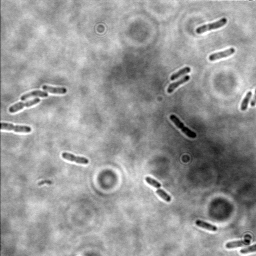Dividing: (168, 113, 197, 139), (7, 96, 41, 115), (194, 17, 228, 35), (60, 151, 90, 166), (1, 121, 33, 135)
Rod: (166, 73, 191, 95), (207, 46, 236, 64), (19, 88, 49, 101), (169, 65, 191, 82), (224, 238, 251, 251), (193, 219, 218, 233), (41, 84, 68, 96), (154, 187, 172, 203), (239, 90, 252, 112), (144, 175, 161, 189)
